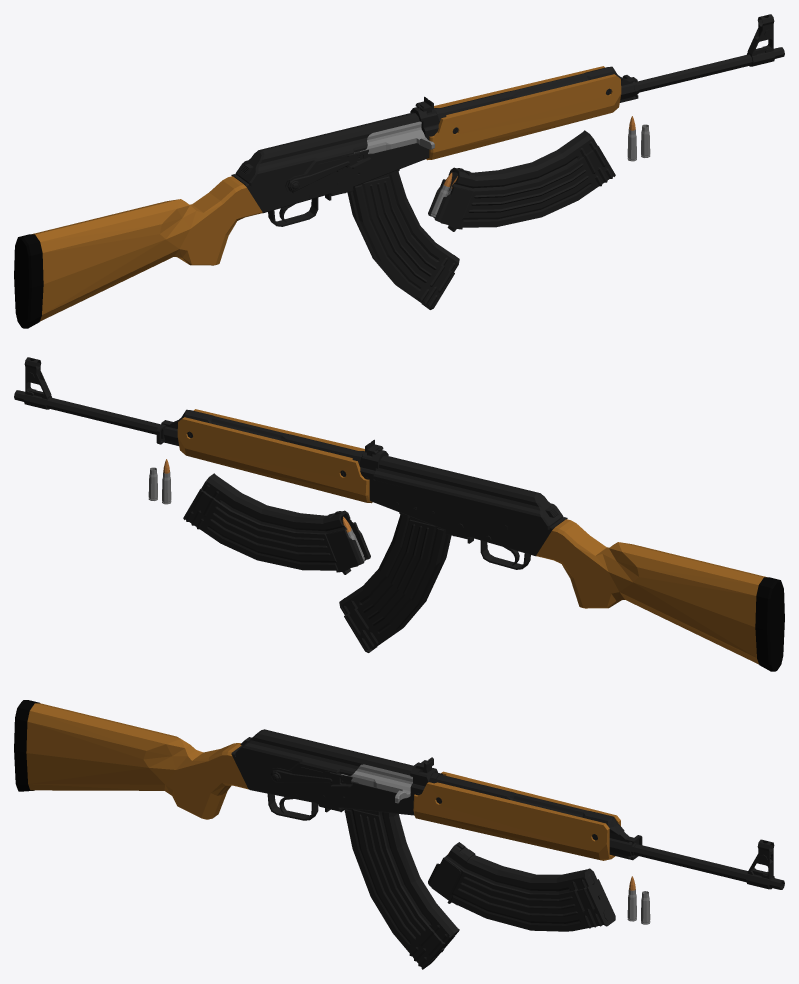
The picture shows the model from 3 angles, top to bottom: view 1: azimuth 30°, elevation 25°; view 2: azimuth 150°, elevation 25°; view 3: azimuth 330°, elevation 25°; orthographic projection.
Parts seen in each view (by area): view 1: norhunt90 stock_11, 76239 ak47 mag 30rnd (steel)_10, norhunt90 handguard_12, 76239 ak47 mag empty 30rnd (steel)_9, norhunt90 receiver_2, norhunt90 dust cover_3, norhunt90 barrel_5, norhunt90 bolt carrier_4, norhunt90 selector_1; view 2: norhunt90 stock_11, 76239 ak47 mag 30rnd (steel)_10, norhunt90 handguard_12, 76239 ak47 mag empty 30rnd (steel)_9, norhunt90 receiver_2, norhunt90 dust cover_3, norhunt90 barrel_5; view 3: norhunt90 stock_11, 76239 ak47 mag 30rnd (steel)_10, 76239 ak47 mag empty 30rnd (steel)_9, norhunt90 handguard_12, norhunt90 receiver_2, norhunt90 dust cover_3, norhunt90 barrel_5, norhunt90 bolt carrier_4, norhunt90 selector_1.
Part boxes in pixels (x1=…): norhunt90 stock_11: x1=14, y1=176, x2=262, y2=328; 76239 ak47 mag 30rnd (steel)_10: x1=428, y1=130, x2=615, y2=231; norhunt90 handguard_12: x1=426, y1=66, x2=621, y2=160; 76239 ak47 mag empty 30rnd (steel)_9: x1=347, y1=169, x2=459, y2=309; norhunt90 receiver_2: x1=231, y1=71, x2=597, y2=226; norhunt90 dust cover_3: x1=235, y1=112, x2=419, y2=186; norhunt90 barrel_5: x1=592, y1=14, x2=784, y2=102; norhunt90 bolt carrier_4: x1=354, y1=121, x2=434, y2=153; norhunt90 selector_1: x1=285, y1=149, x2=370, y2=193; norhunt90 stock_11: x1=536, y1=519, x2=784, y2=671; 76239 ak47 mag 30rnd (steel)_10: x1=183, y1=473, x2=370, y2=574; norhunt90 handguard_12: x1=177, y1=409, x2=372, y2=503; 76239 ak47 mag empty 30rnd (steel)_9: x1=339, y1=512, x2=451, y2=652; norhunt90 receiver_2: x1=201, y1=414, x2=567, y2=569; norhunt90 dust cover_3: x1=373, y1=455, x2=563, y2=529; norhunt90 barrel_5: x1=14, y1=357, x2=205, y2=445; norhunt90 stock_11: x1=14, y1=700, x2=248, y2=819; 76239 ak47 mag 30rnd (steel)_10: x1=428, y1=842, x2=615, y2=931; 76239 ak47 mag empty 30rnd (steel)_9: x1=344, y1=808, x2=459, y2=969; norhunt90 handguard_12: x1=413, y1=771, x2=620, y2=860; norhunt90 receiver_2: x1=231, y1=737, x2=595, y2=820; norhunt90 dust cover_3: x1=235, y1=729, x2=412, y2=775; norhunt90 barrel_5: x1=591, y1=812, x2=784, y2=889; norhunt90 bolt carrier_4: x1=341, y1=764, x2=412, y2=803; norhunt90 selector_1: x1=270, y1=765, x2=352, y2=787.
Bounding box in the file's own units: 10.16 × 2.67 × 0.6441.
